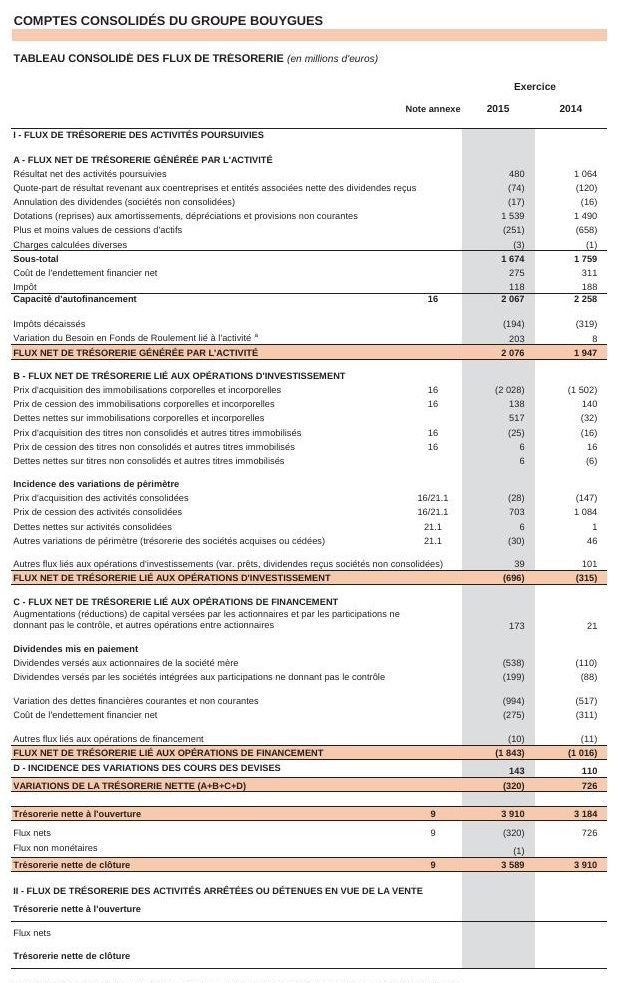table: (0, 0, 624, 983)
